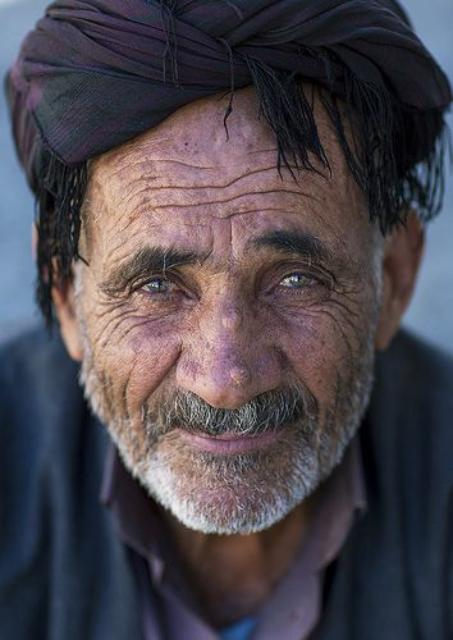crows_feet: (329, 273, 363, 331), (94, 286, 137, 322)
forehead: (246, 153, 324, 183), (180, 170, 228, 212), (244, 182, 310, 212), (128, 174, 163, 216)
frown_line: (218, 224, 242, 262)
gummy_smile: (146, 348, 180, 399), (302, 374, 324, 428)
